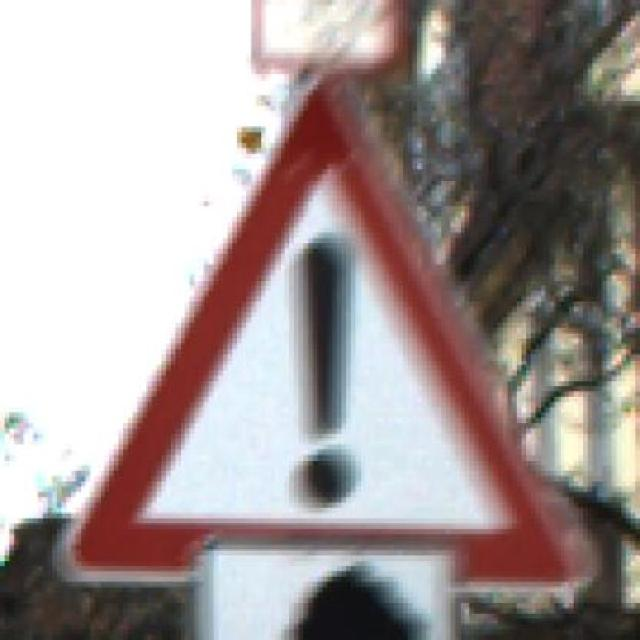Attention Please-: (52, 58, 578, 614)
